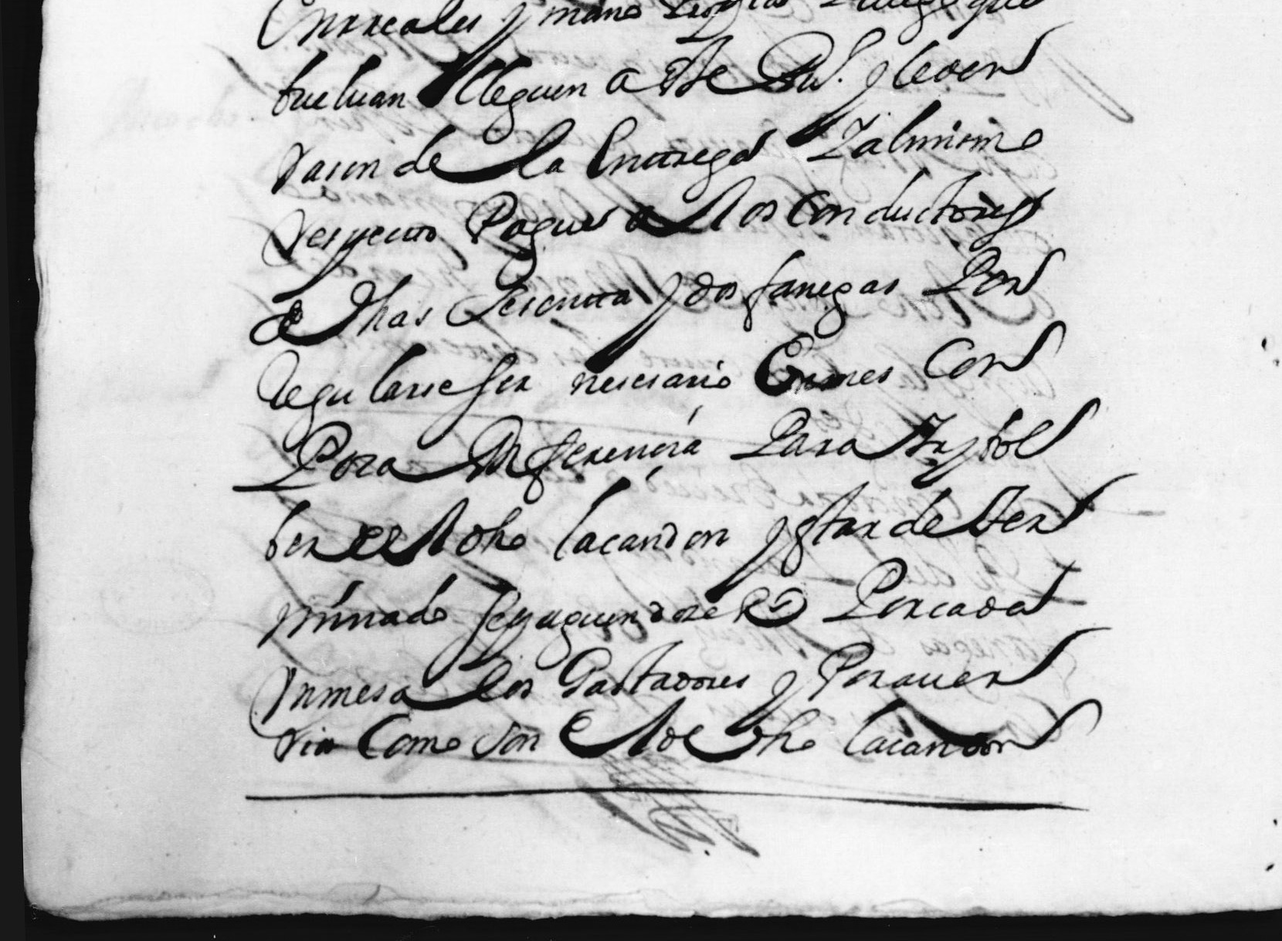lacandon: (843, 698, 1102, 757), (553, 476, 729, 560)
